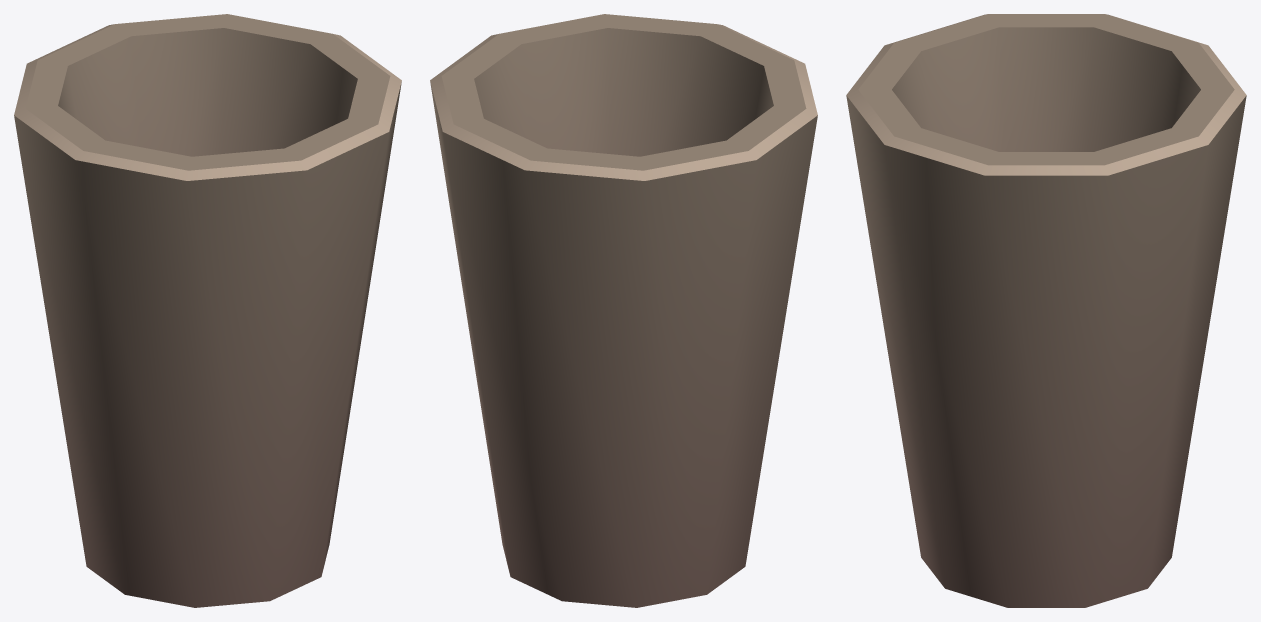
Rendered from cup.fbx.
3 renders of one model, left to right at view 1: azimuth 30°, elevation 25°; view 2: azimuth 150°, elevation 25°; view 3: azimuth 270°, elevation 25°, orthographic.
Parts seen in each view (by area): view 1: cup; view 2: cup; view 3: cup.
Part boxes in pixels (x1,y1,x2,y2): cup: (14, 14, 401, 607); cup: (430, 14, 817, 607); cup: (846, 14, 1246, 607).
Bounding box in the file's own units: 28.47 × 38.59 × 29.93.
